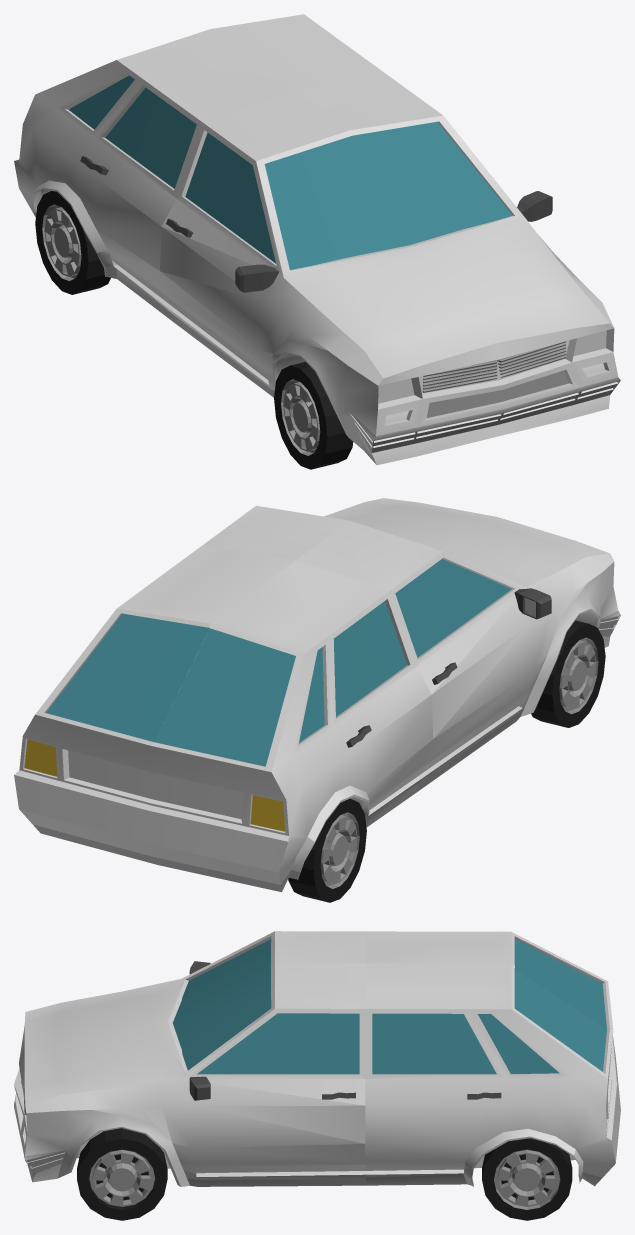
Rendered from carA.fbx.
3 views of the same model, one above another, from view 1: azimuth 30°, elevation 25°; view 2: azimuth 150°, elevation 25°; view 3: azimuth 270°, elevation 25° (orthographic). The views are drawn at different scales.
Parts seen in each view (by area): view 1: Cube; view 2: Cube; view 3: Cube.
Boxes of the visible parts, x1=… form: Cube: x1=14, y1=14, x2=620, y2=469; Cube: x1=14, y1=498, x2=620, y2=902; Cube: x1=14, y1=931, x2=620, y2=1220.
Bounding box in the file's own units: 160 × 115 × 317.
